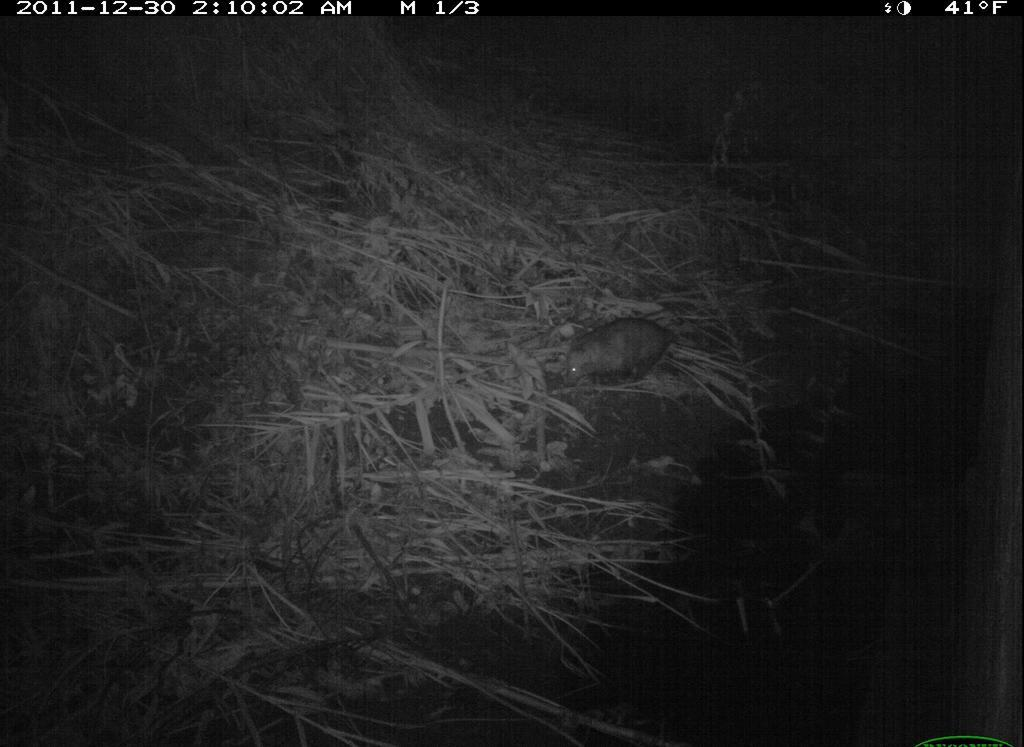opossum: (557, 314, 694, 399)
